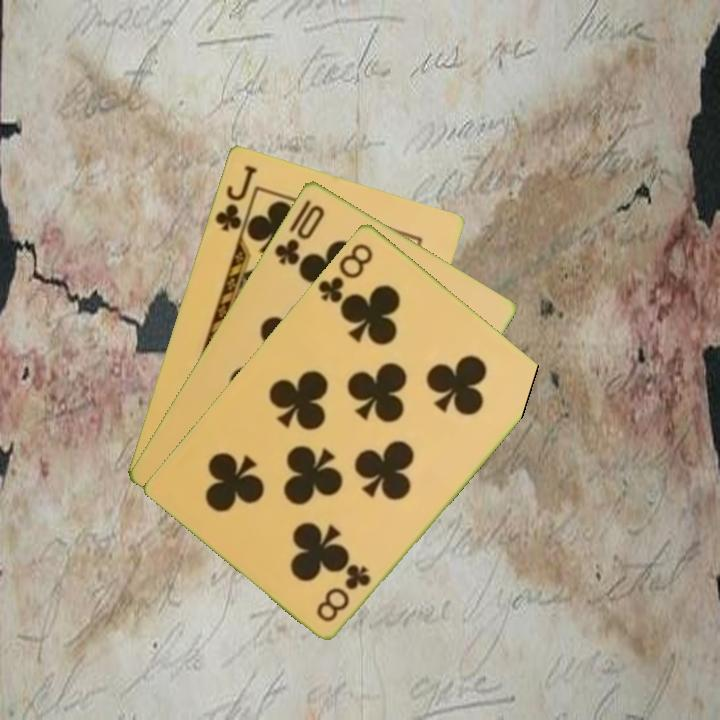10c: (271, 195, 328, 268)
8c: (314, 239, 376, 306), (312, 559, 374, 625)
Jc: (211, 161, 260, 234)
